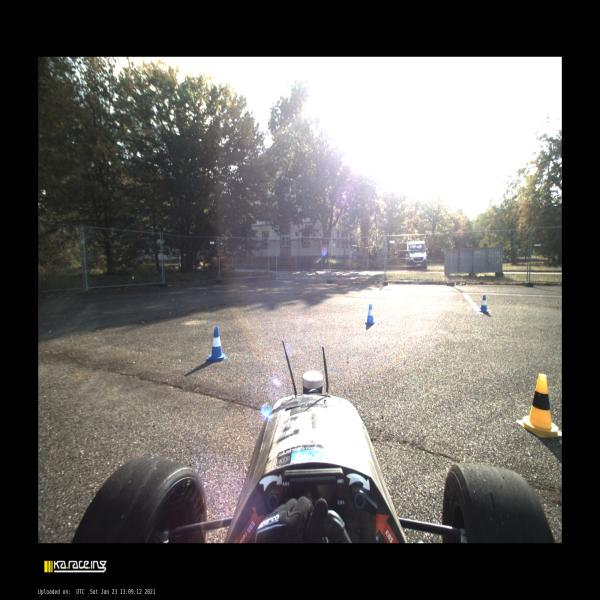blue_cone: (206, 326, 228, 362), (365, 304, 375, 324), (479, 295, 490, 313)
yellow_cone: (516, 374, 562, 437)
